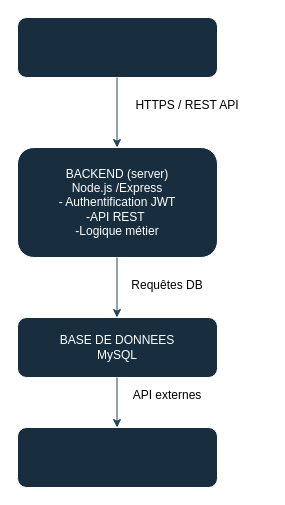
The diagram is 285 pixels wide and 505 high, and some of its shapes have lost their labels. Here are the shapes that lost their labels. From the top down, the box of each, then its label:
(16, 16, 218, 78): CLIENT (Frontend) React / Navigateur
(16, 426, 218, 488): SERVICES EXTERNES Paiement / Email /google MAPS
